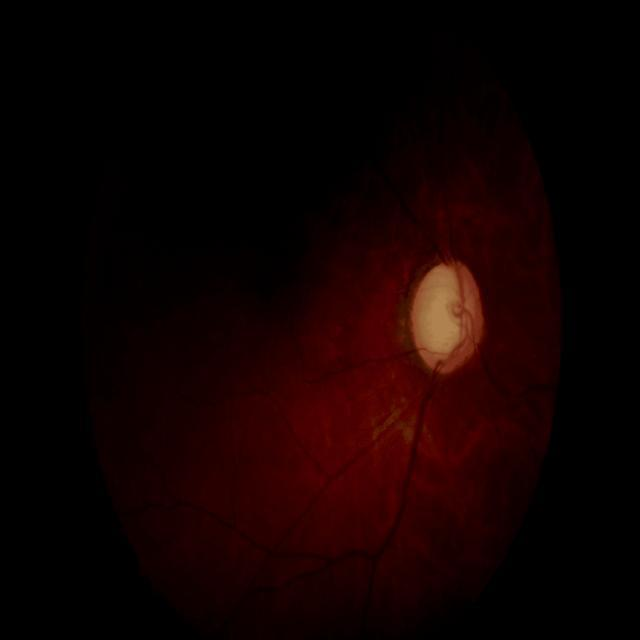cup: (419, 264, 471, 362)
disk: (411, 260, 485, 376)
